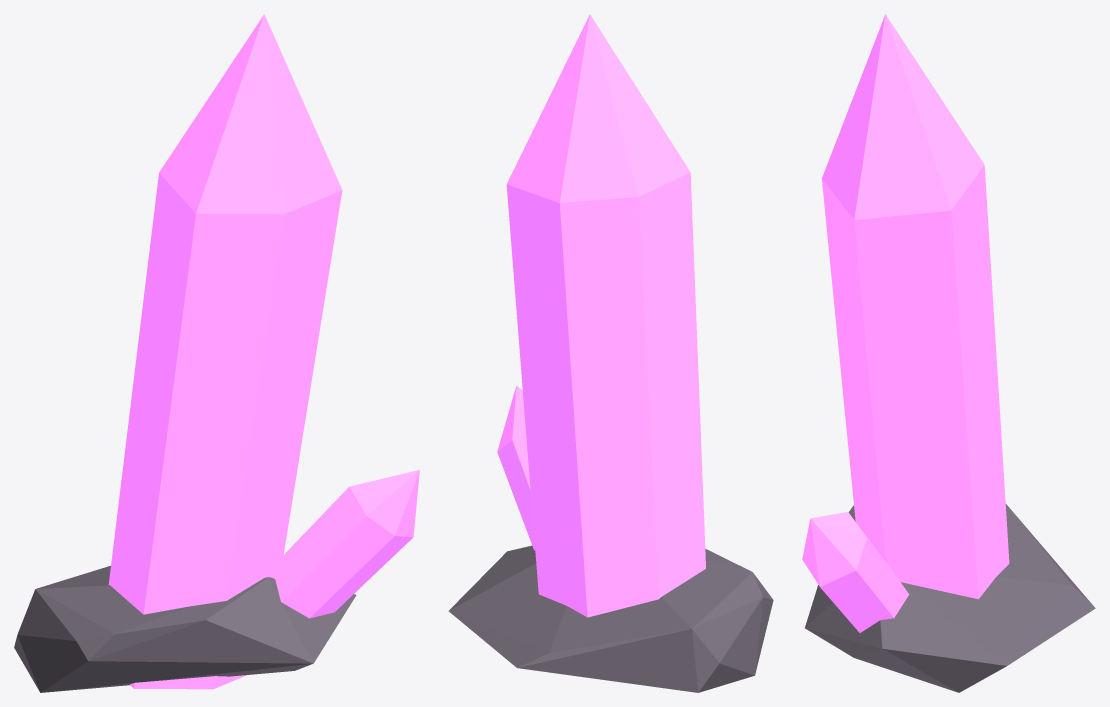
The model's file is Crystal_Single_Purple.glb.
3 renders of one model, left to right at view 1: azimuth 30°, elevation 25°; view 2: azimuth 150°, elevation 25°; view 3: azimuth 270°, elevation 25°, orthographic. The views are drawn at different scales.
Parts seen in each view (by area): view 1: Crystal_Single_purple; view 2: Crystal_Single_purple; view 3: Crystal_Single_purple.
Boxes of the visible parts, x1=… form: Crystal_Single_purple: x1=14, y1=14, x2=419, y2=692; Crystal_Single_purple: x1=448, y1=14, x2=773, y2=692; Crystal_Single_purple: x1=802, y1=14, x2=1095, y2=692.
Size of the model in its own units: 0.4129 by 0.8165 by 0.3359.
